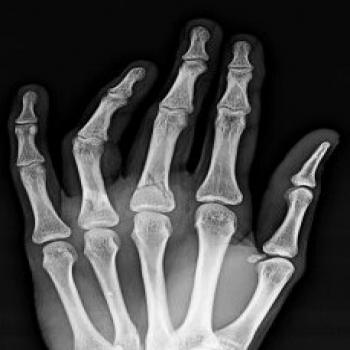Fracture: (132, 167, 182, 201)
